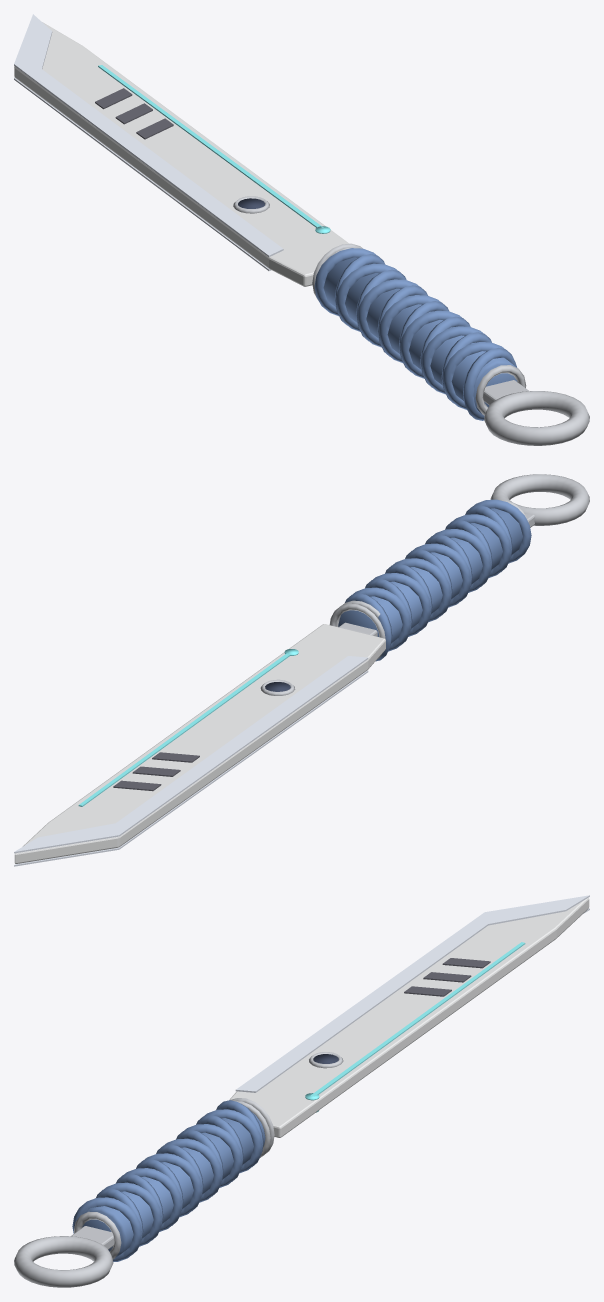
File: kunai.glb
The picture shows the model from 3 angles, top to bottom: view 1: azimuth 30°, elevation 25°; view 2: azimuth 150°, elevation 25°; view 3: azimuth 330°, elevation 25°; orthographic projection. The views are drawn at different scales.
Parts seen in each view (by area): view 1: Kunai; view 2: Kunai; view 3: Kunai.
Boxes of the visible parts, left/top/right/bottom form: Kunai: left=14, top=14, right=589, bottom=445; Kunai: left=14, top=474, right=589, bottom=866; Kunai: left=14, top=895, right=589, bottom=1287.
Bounding box in the file's own units: 0.0308 × 0.0222 × 0.3244.
